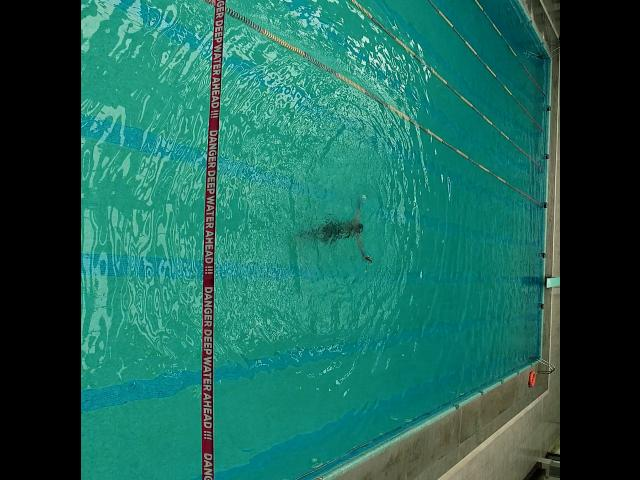drowning: (300, 194, 374, 264)
